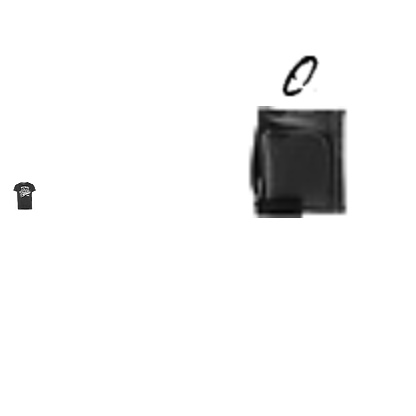0: (271, 46, 327, 102)
Bag: (242, 106, 354, 218)
T-shirt/top: (10, 182, 38, 210)
